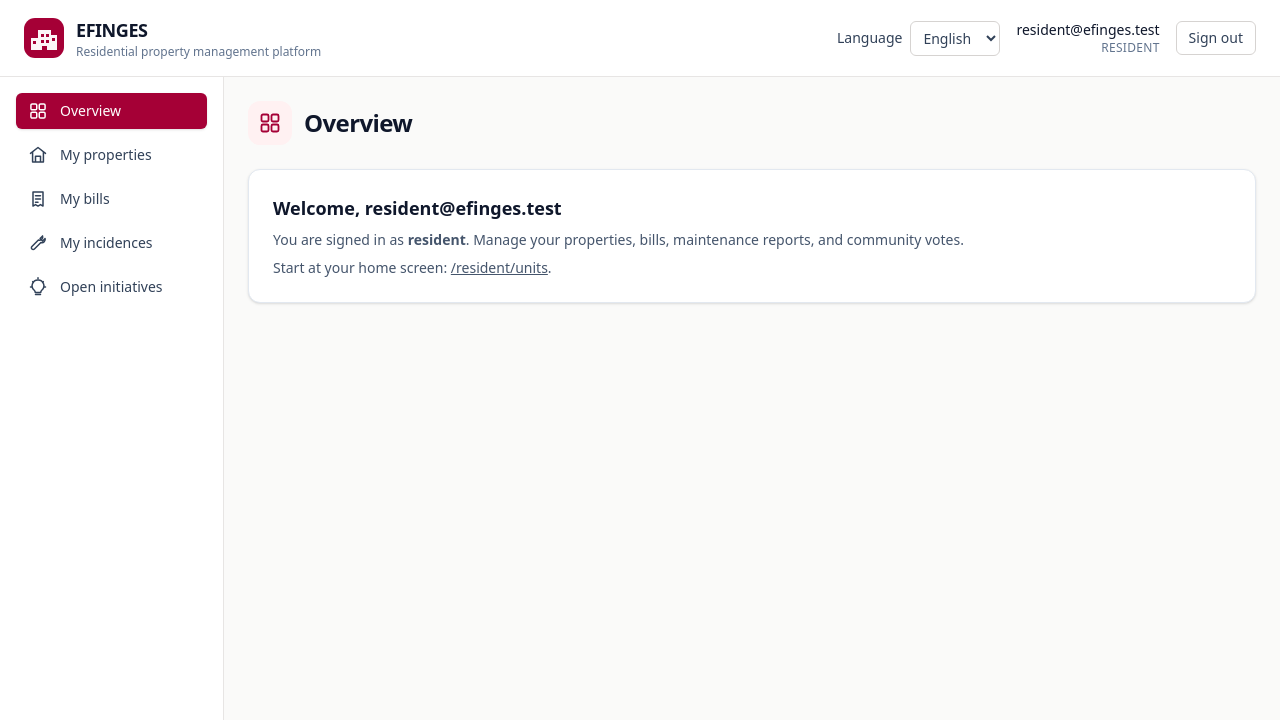
Test: logout › clears the stored token and returns to the login form
Click the button "Sign out" at (1216,38), box [1176, 21, 1256, 55]
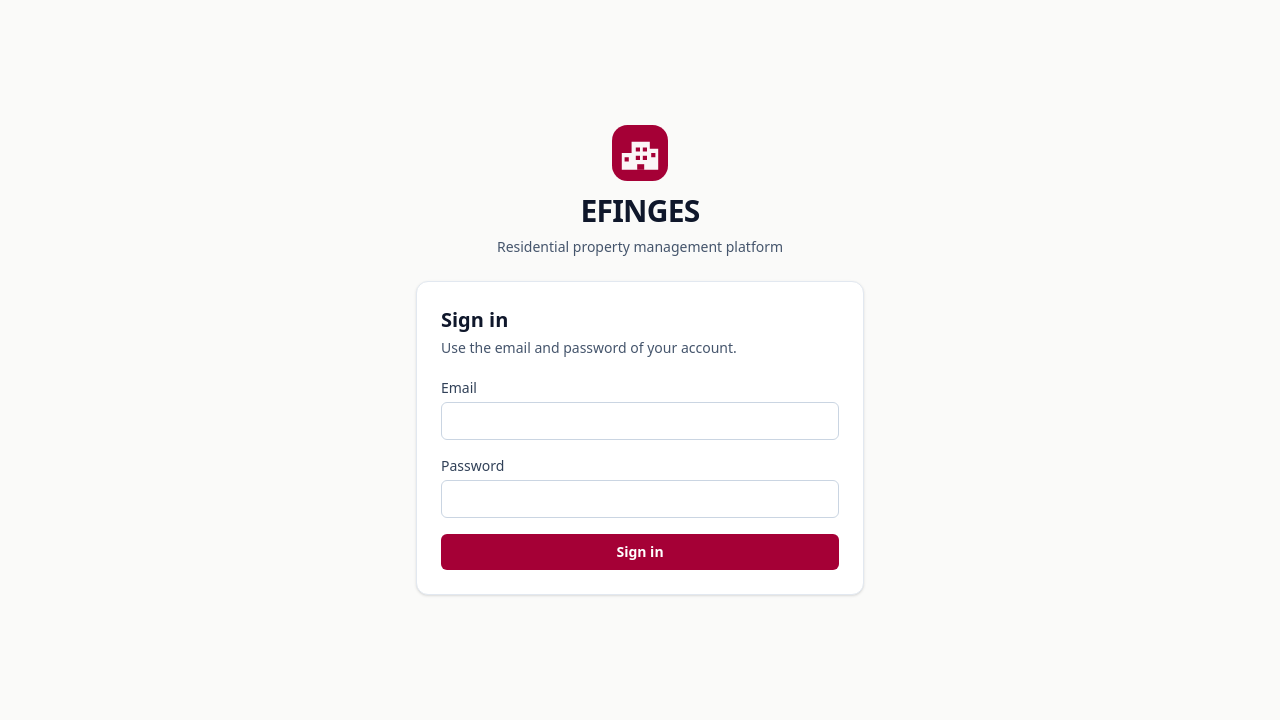
Expected: the heading "Sign in" is shown, [441, 306, 508, 333]
